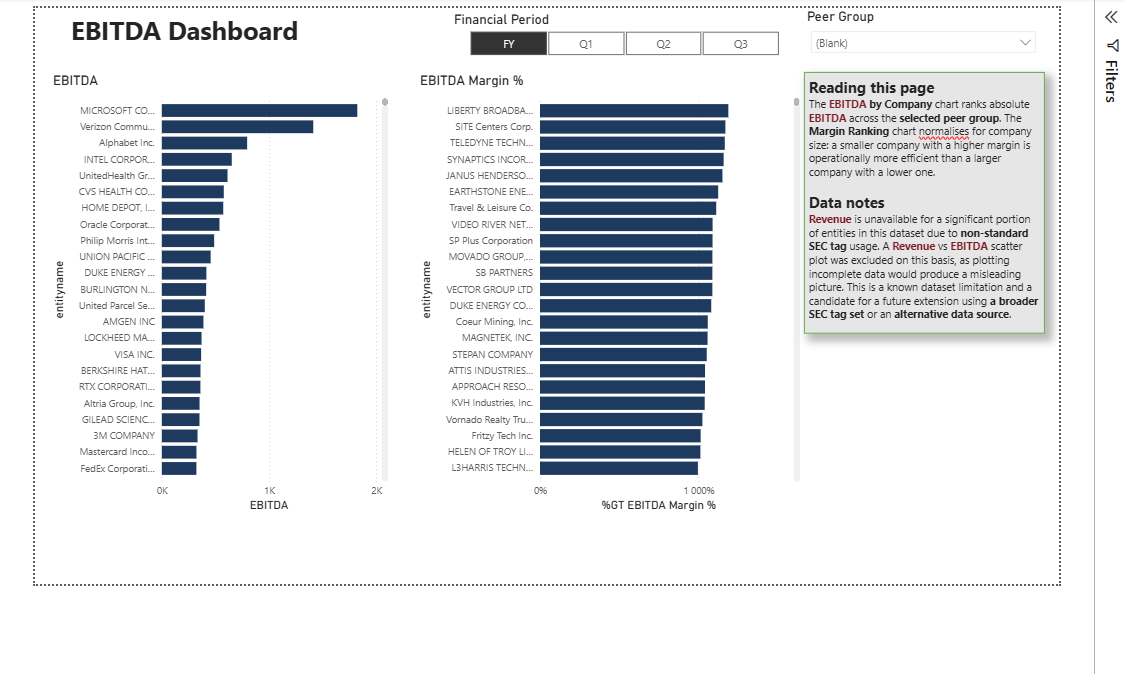

This screenshot's page, from the dashboard's own definition file:
{"tool":"powerbi","page":{"name":"Company Comparison","canvas":[1280,720],"ordinal":2},"visuals":[{"type":"barChart","title":"EBITDA","fields":{"Category":["dim_company.entityname"],"Y":["_Measures.EBITDA"]},"box":[17.3,84.2,441.9,553.8],"z":0},{"type":"barChart","title":"EBITDA Margin %","fields":{"Category":["dim_company.entityname"],"Y":["_Measures.EBITDA Margin %"]},"box":[475.4,83.1,484.6,553.8],"z":1000},{"type":"textbox","box":[39.2,10.4,319.6,54.2],"z":2000},{"type":"slicer","title":"Peer Group","fields":{"Values":["dim_company.peer_group"]},"box":[803.1,11.5,300,65.8],"z":3000},{"type":"textbox","box":[975,83.1,287.3,361.2],"z":4000},{"type":"slicer","title":"Financial Period","fields":{"Values":["fct_company_period.fp"]},"box":[363.5,10.4,435,62.3],"z":5000},{"type":"textbox","box":[374,668,462,38],"z":6000}]}

Visuals, with their boxes on the page's 1280x720 design canvas (x1, y1, x2, y2). These are canvas units, not pixel positions in the 1125x674 screenshot, which may show the page scaled, cropped or inside an application window:
"EBITDA" barChart: <bbox>17, 84, 459, 638</bbox>
"EBITDA Margin %" barChart: <bbox>475, 83, 960, 637</bbox>
textbox: <bbox>39, 10, 359, 65</bbox>
"Peer Group" slicer: <bbox>803, 12, 1103, 77</bbox>
textbox: <bbox>975, 83, 1262, 444</bbox>
"Financial Period" slicer: <bbox>364, 10, 798, 73</bbox>
textbox: <bbox>374, 668, 836, 706</bbox>
